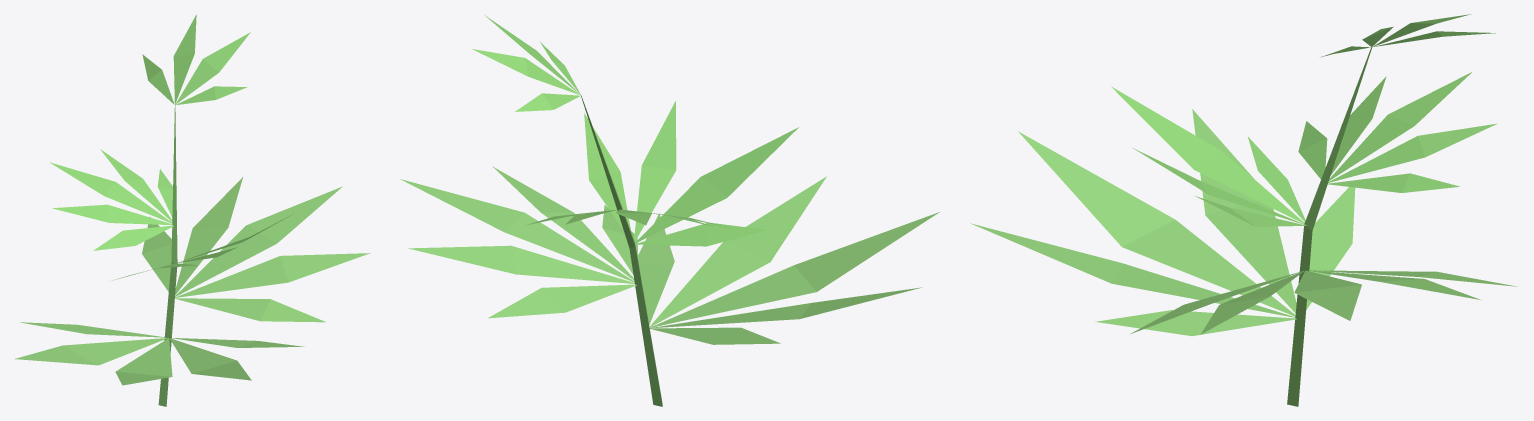
Rendered from Plant_i_OneS_03.fbx.
3 renders of one model, left to right at view 1: azimuth 30°, elevation 25°; view 2: azimuth 150°, elevation 25°; view 3: azimuth 270°, elevation 25°, orthographic. The views are drawn at different scales.
Parts seen in each view (by area): view 1: Plant_i_OneS_03; view 2: Plant_i_OneS_03; view 3: Plant_i_OneS_03.
Part boxes in pixels (x1=…): Plant_i_OneS_03: x1=15, y1=14, x2=370, y2=406; Plant_i_OneS_03: x1=400, y1=15, x2=939, y2=406; Plant_i_OneS_03: x1=970, y1=14, x2=1516, y2=406.
Size of the model in its own units: 42.51 by 33.97 by 37.08.
